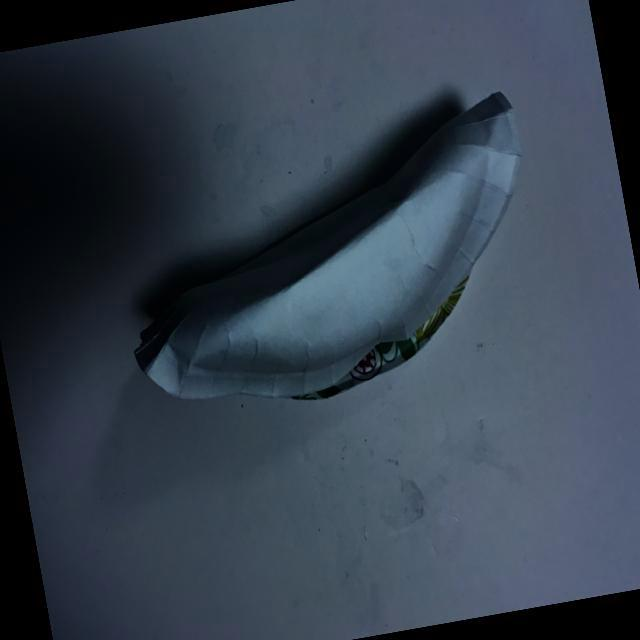paper: (26, 70, 594, 524)
